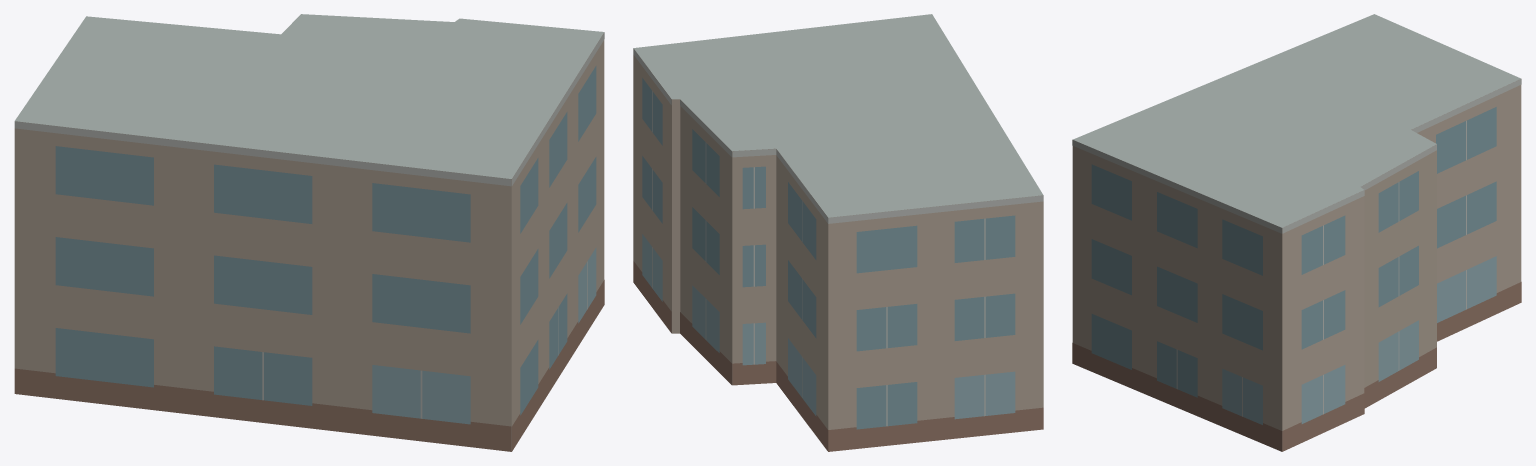
The model's file is survey-upis-32809896.glb.
3 renders of one model, left to right at view 1: azimuth 30°, elevation 25°; view 2: azimuth 150°, elevation 25°; view 3: azimuth 270°, elevation 25°, orthographic. The views are drawn at different scales.
Parts seen in each view (by area): view 1: survey-upis-32809896.tmp; view 2: survey-upis-32809896.tmp; view 3: survey-upis-32809896.tmp.
Part boxes in pixels (box(x1,y1,x2,y2)): survey-upis-32809896.tmp: box(14, 14, 604, 451); survey-upis-32809896.tmp: box(633, 14, 1043, 451); survey-upis-32809896.tmp: box(1072, 14, 1521, 451).
Size of the model in its own units: 18.75 by 9.15 by 16.62.
